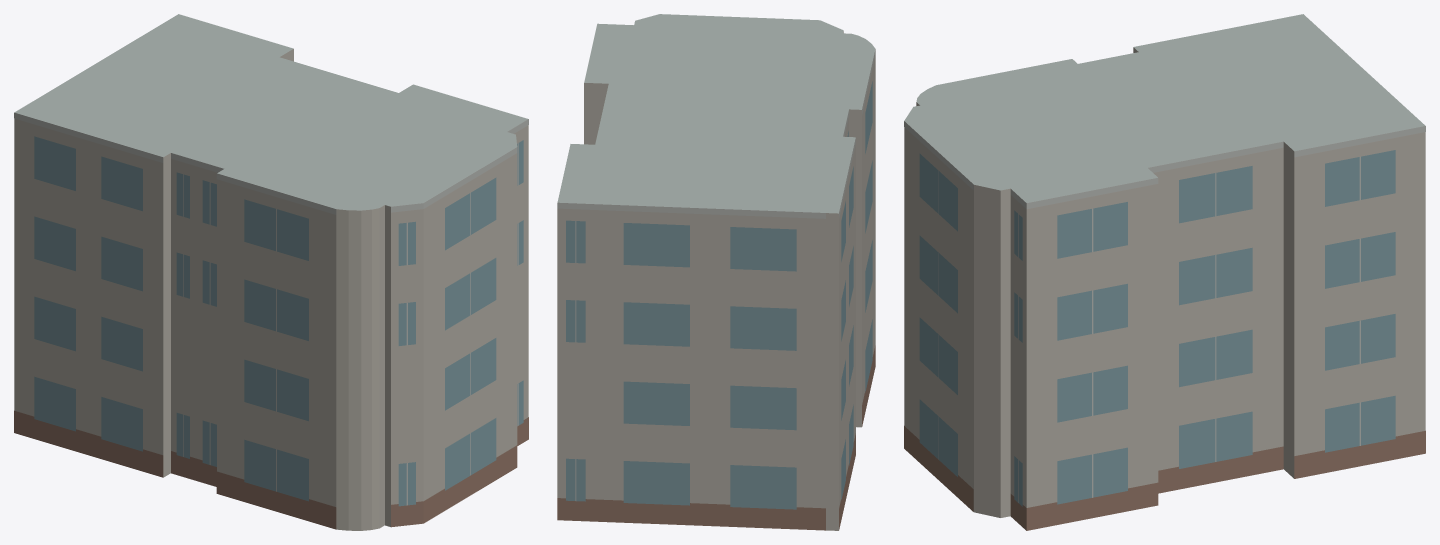
The model's file is survey-upis-32745461.glb.
3 renders of one model, left to right at view 1: azimuth 30°, elevation 25°; view 2: azimuth 150°, elevation 25°; view 3: azimuth 270°, elevation 25°, orthographic. The views are drawn at different scales.
Parts seen in each view (by area): view 1: survey-upis-32745461.tmp; view 2: survey-upis-32745461.tmp; view 3: survey-upis-32745461.tmp.
Boxes of the visible parts, x1=… form: survey-upis-32745461.tmp: x1=14, y1=14, x2=528, y2=530; survey-upis-32745461.tmp: x1=557, y1=14, x2=875, y2=530; survey-upis-32745461.tmp: x1=904, y1=14, x2=1425, y2=530.
Bounding box in the file's own units: 16.36 × 13.2 × 19.06.
